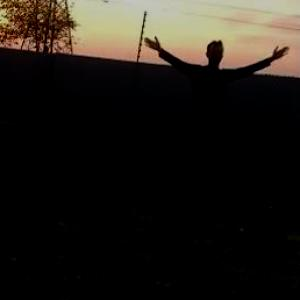takeoff: (143, 41, 274, 186)
